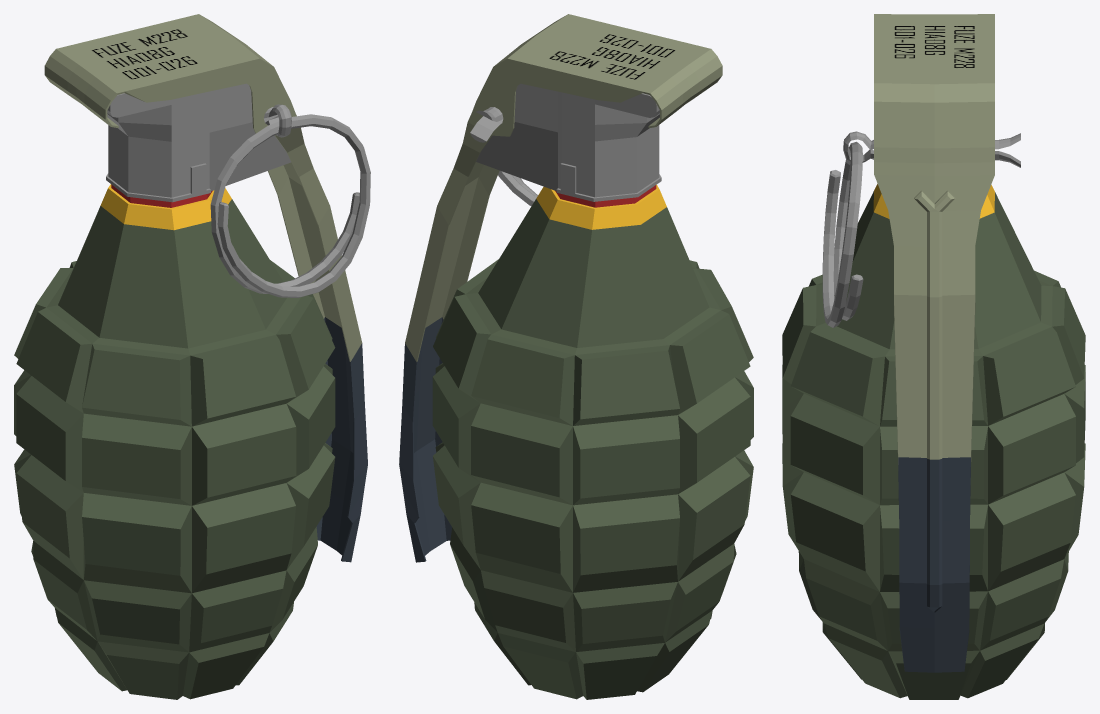
The model's file is Grenade_1.fbx.
The picture shows the model from 3 angles, left to right: view 1: azimuth 30°, elevation 25°; view 2: azimuth 150°, elevation 25°; view 3: azimuth 270°, elevation 25°; orthographic projection.
Parts seen in each view (by area): view 1: MK 2; view 2: MK 2; view 3: MK 2.
Part boxes in pixels (bbox=[...]): MK 2: bbox=[14, 14, 370, 699]; MK 2: bbox=[399, 14, 753, 699]; MK 2: bbox=[782, 14, 1085, 699].
Bounding box in the file's own units: 2.39 × 4.47 × 2.01.
2 materials, 2 textured.
